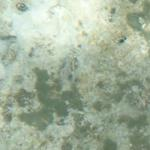dead: (8, 36, 145, 149)
